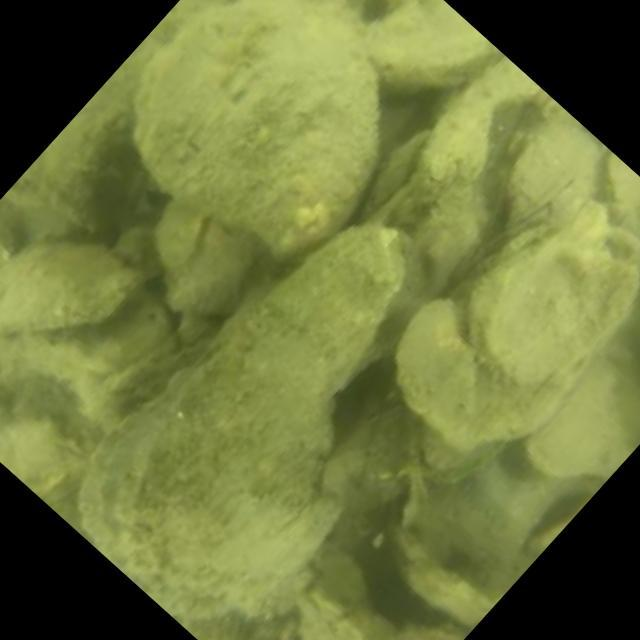Oyster- Indeterminate: (80, 227, 404, 625), (129, 0, 380, 259), (26, 0, 204, 199), (471, 219, 640, 388), (398, 302, 582, 449), (523, 343, 625, 478), (164, 223, 280, 319)
Oyster-Closed: (0, 240, 141, 333), (362, 0, 495, 90)
